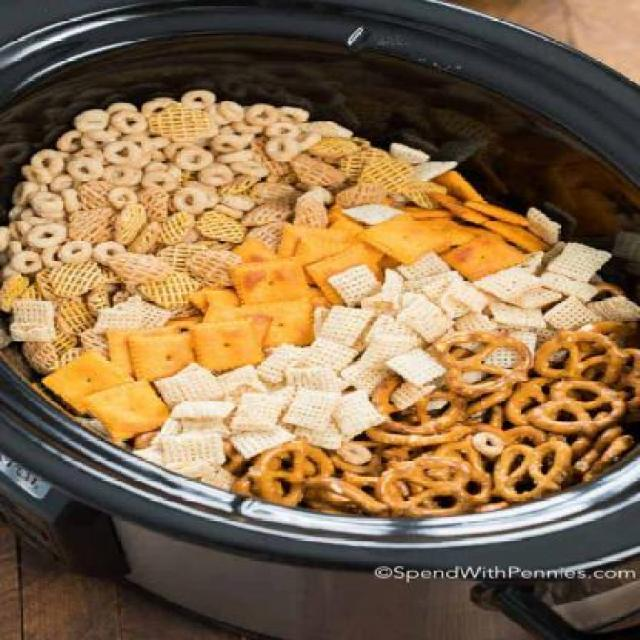Salatini packaged: (16, 96, 639, 502)
